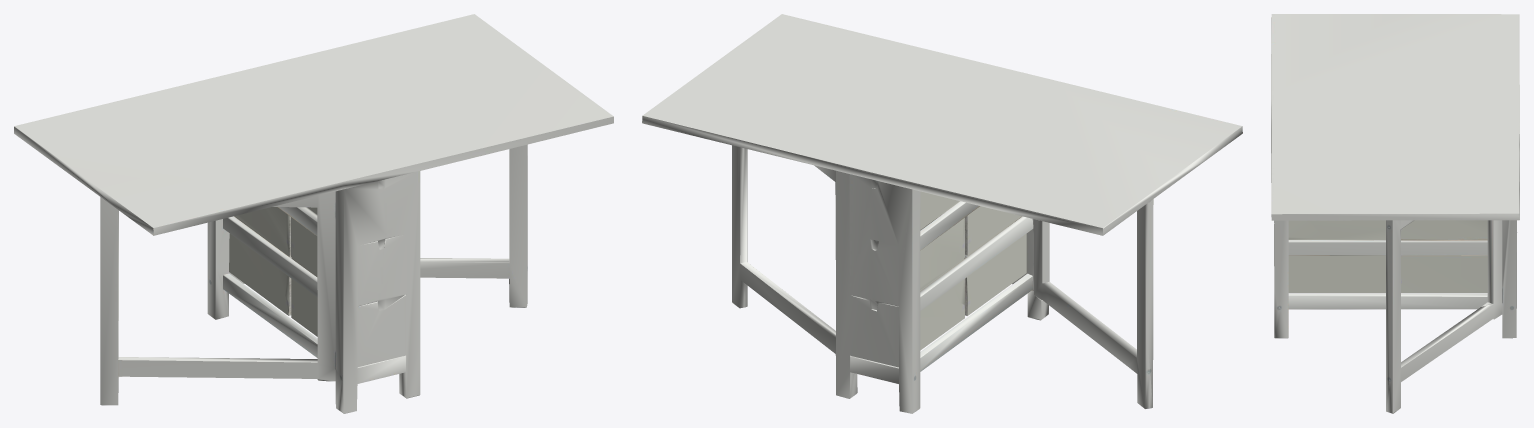
File: norden_gateleg_table_white.glb
3 renders of one model, left to right at view 1: azimuth 30°, elevation 25°; view 2: azimuth 150°, elevation 25°; view 3: azimuth 270°, elevation 25°, orthographic. The views are drawn at different scales.
Parts seen in each view (by area): view 1: ProcessedMeshNode; view 2: ProcessedMeshNode; view 3: ProcessedMeshNode.
Part boxes in pixels (<box>): ProcessedMeshNode: <box>14,14,613,413</box>; ProcessedMeshNode: <box>642,14,1242,413</box>; ProcessedMeshNode: <box>1271,14,1519,413</box>.
Bounding box in the file's own units: 1.52 × 0.7425 × 0.8013.
1 material, 1 textured.
